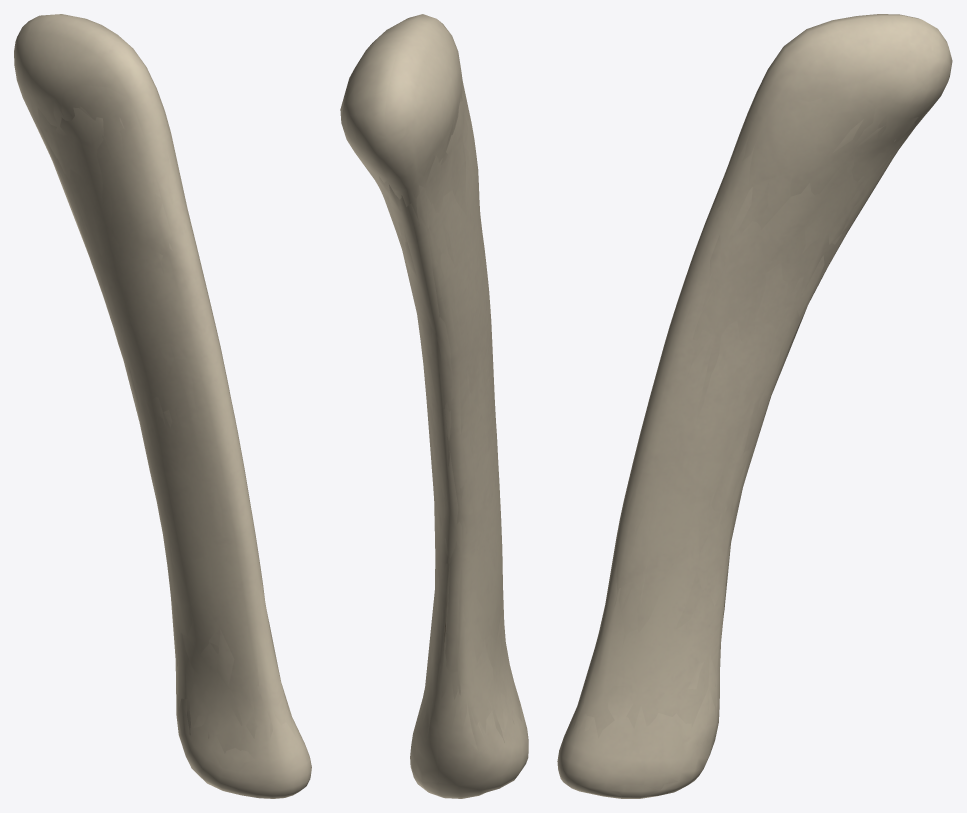
Rendered from L metacarpi quintum.fbx.
3 views of the same model, side by side, from view 1: azimuth 30°, elevation 25°; view 2: azimuth 150°, elevation 25°; view 3: azimuth 270°, elevation 25° (orthographic). The views are drawn at different scales.
Visible parts, largest first — view 1: L metacarpi quintum, L metacarpi quintum high, L metacarpi quintum low; view 2: L metacarpi quintum, L metacarpi quintum high, L metacarpi quintum low; view 3: L metacarpi quintum, L metacarpi quintum low, L metacarpi quintum high.
Part boxes in pixels (x1=…): L metacarpi quintum: x1=14, y1=14, x2=311, y2=798; L metacarpi quintum high: x1=15, y1=15, x2=310, y2=798; L metacarpi quintum low: x1=37, y1=107, x2=295, y2=738; L metacarpi quintum: x1=340, y1=14, x2=528, y2=798; L metacarpi quintum high: x1=344, y1=15, x2=528, y2=798; L metacarpi quintum low: x1=384, y1=92, x2=514, y2=742; L metacarpi quintum: x1=557, y1=14, x2=952, y2=798; L metacarpi quintum low: x1=573, y1=119, x2=914, y2=738; L metacarpi quintum high: x1=558, y1=14, x2=951, y2=798.
Bounding box in the file's own units: 2.19 × 10.41 × 5.07.
